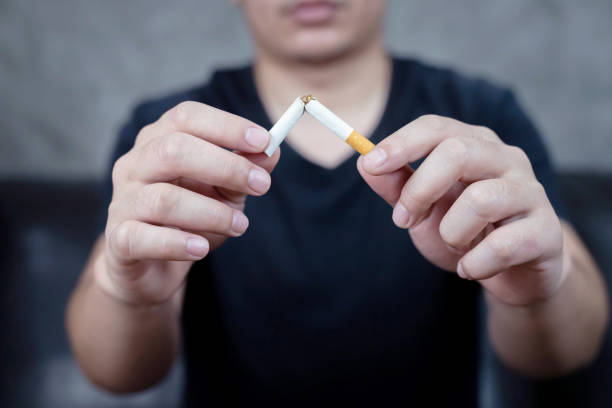cigarette: (303, 94, 377, 159), (263, 95, 308, 159)
